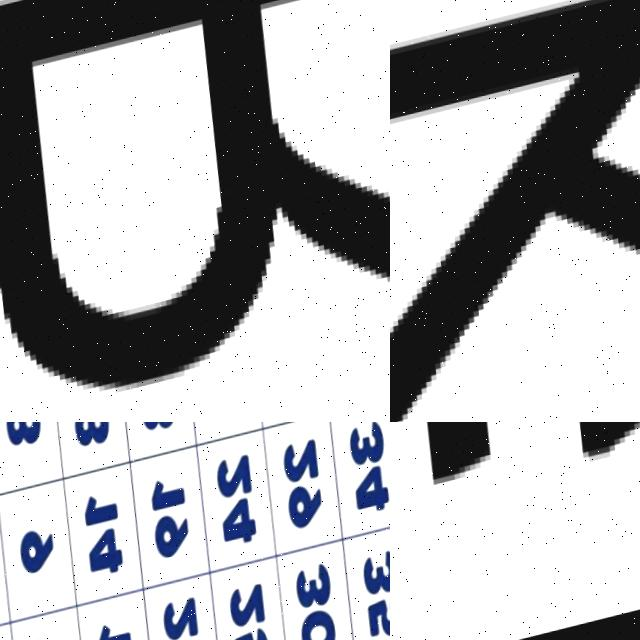0: (296, 609, 345, 640)
1: (147, 478, 192, 521), (81, 489, 124, 532), (95, 619, 139, 640)
2: (278, 441, 327, 496), (227, 585, 274, 640), (214, 457, 259, 511), (159, 598, 204, 640)
3: (292, 568, 340, 623), (345, 423, 390, 480), (360, 555, 390, 613), (71, 422, 117, 459)
4: (217, 498, 268, 563), (83, 530, 135, 588), (347, 474, 390, 536)
5: (363, 600, 390, 640)
8: (0, 422, 50, 460), (135, 422, 182, 445)
9: (15, 519, 63, 584), (286, 483, 330, 544), (152, 516, 198, 569)
K: (390, 0, 640, 422)
R: (0, 0, 390, 422)
